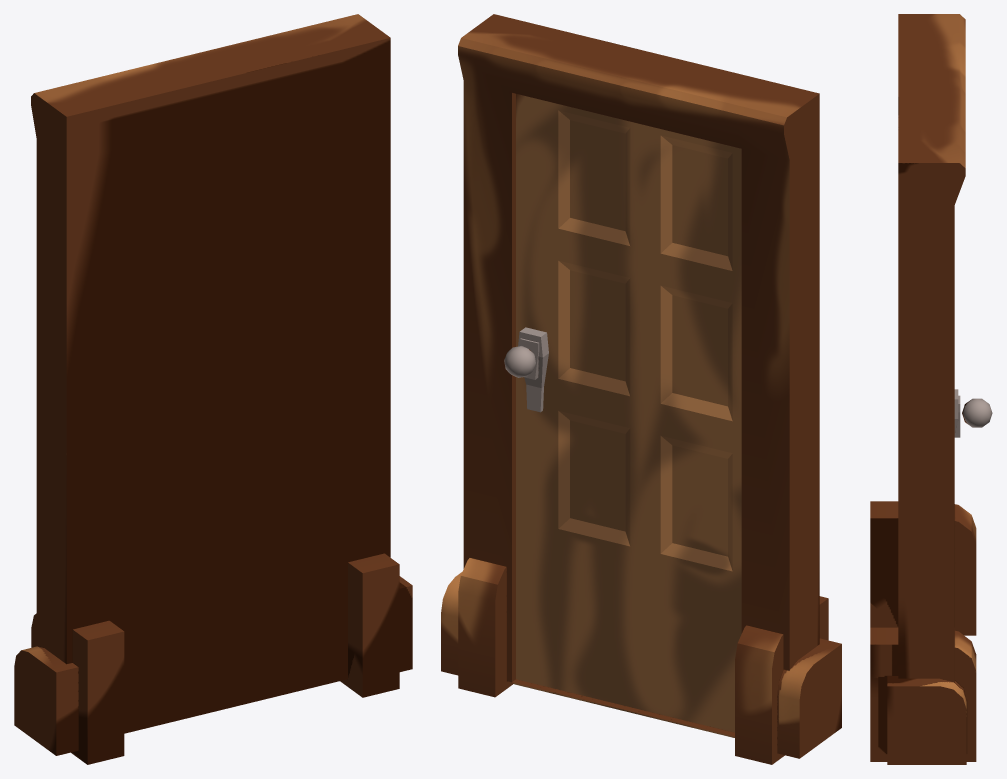
File: CatDoor.fbx
3 views of the same model, side by side, from view 1: azimuth 30°, elevation 25°; view 2: azimuth 150°, elevation 25°; view 3: azimuth 270°, elevation 25° (orthographic). The views are drawn at different scales.
Parts seen in each view (by area): view 1: Door; view 2: Door; view 3: Door.
Part boxes in pixels (x1,y1,x2,y2): Door: (14, 14, 412, 764); Door: (441, 14, 841, 764); Door: (870, 14, 992, 764).
Size of the model in its own units: 195 by 335 by 61.53.
Materials: 1 (1 with a texture image).
